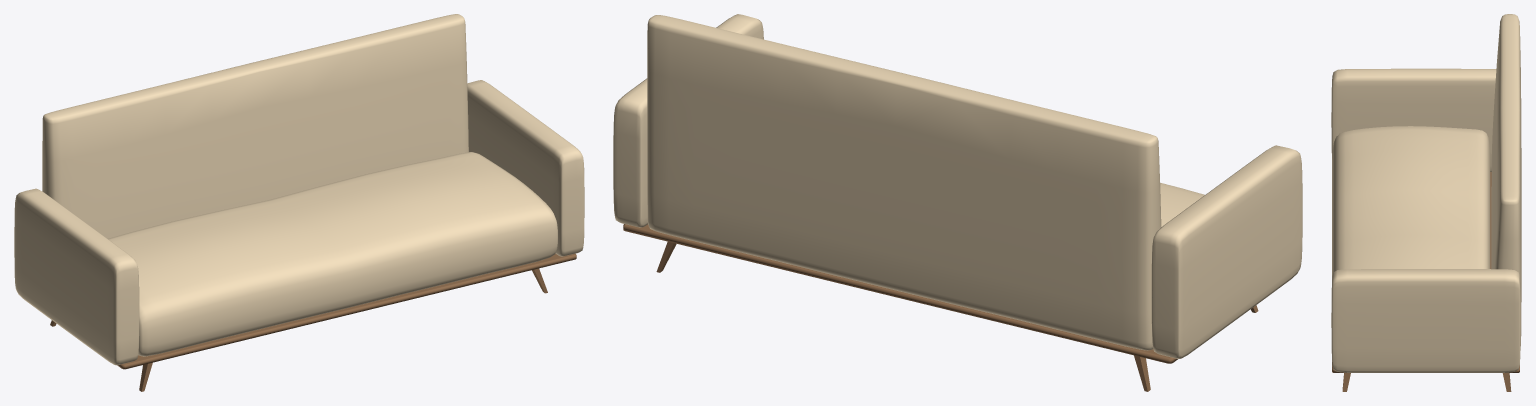
Rendered from SmallSofa.glb.
3 renders of one model, left to right at view 1: azimuth 30°, elevation 25°; view 2: azimuth 150°, elevation 25°; view 3: azimuth 270°, elevation 25°, orthographic. The views are drawn at different scales.
Visible parts, largest first — view 1: SmallSofaWith; view 2: SmallSofaWith; view 3: SmallSofaWith.
Part boxes in pixels (left/top/right/bottom): SmallSofaWith: left=14, top=14, right=584, bottom=391; SmallSofaWith: left=613, top=14, right=1302, bottom=391; SmallSofaWith: left=1331, top=14, right=1521, bottom=391.
Bounding box in the file's own units: 2.62 × 1.12 × 0.9963.
Materials: 1 (1 with a texture image).
